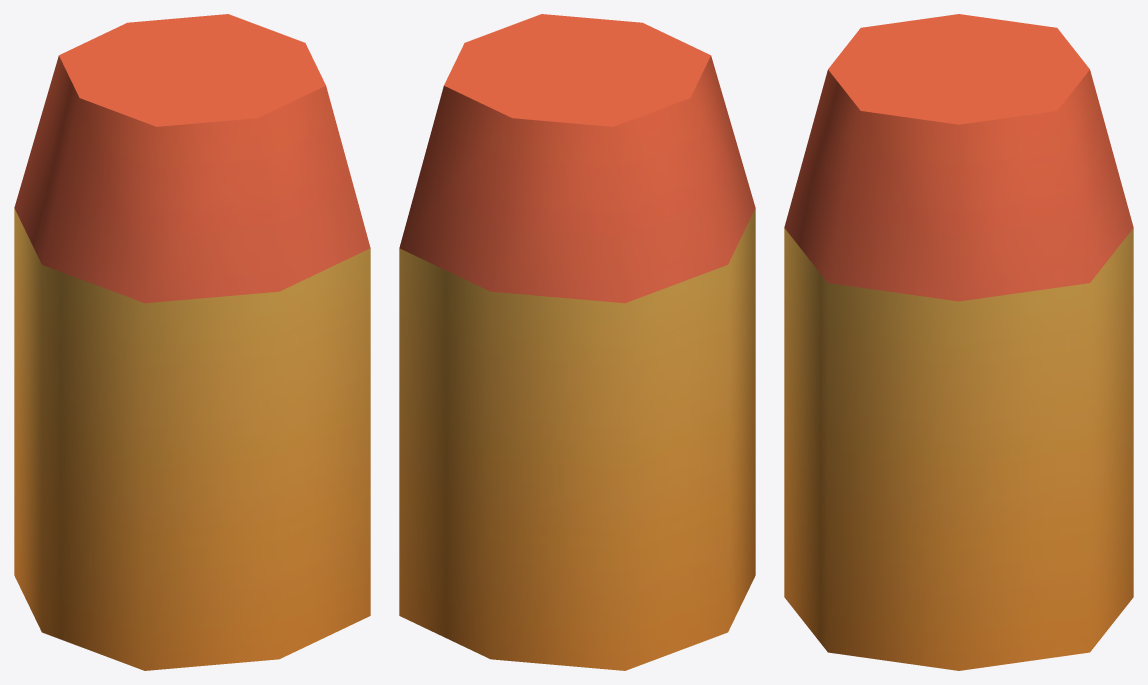
Rendered from bullet-foam-tip-thick.glb.
The picture shows the model from 3 angles, left to right: view 1: azimuth 30°, elevation 25°; view 2: azimuth 150°, elevation 25°; view 3: azimuth 270°, elevation 25°; orthographic projection.
Parts seen in each view (by area): view 1: bullet-foam-tip-thick; view 2: bullet-foam-tip-thick; view 3: bullet-foam-tip-thick.
Boxes of the visible parts, box(x1,y1,x2,y2) form: bullet-foam-tip-thick: box(14, 14, 370, 670); bullet-foam-tip-thick: box(399, 14, 755, 670); bullet-foam-tip-thick: box(784, 14, 1133, 670).
Size of the model in its own units: 0.03 by 0.05 by 0.03.
Materials: 1 (1 with a texture image).
